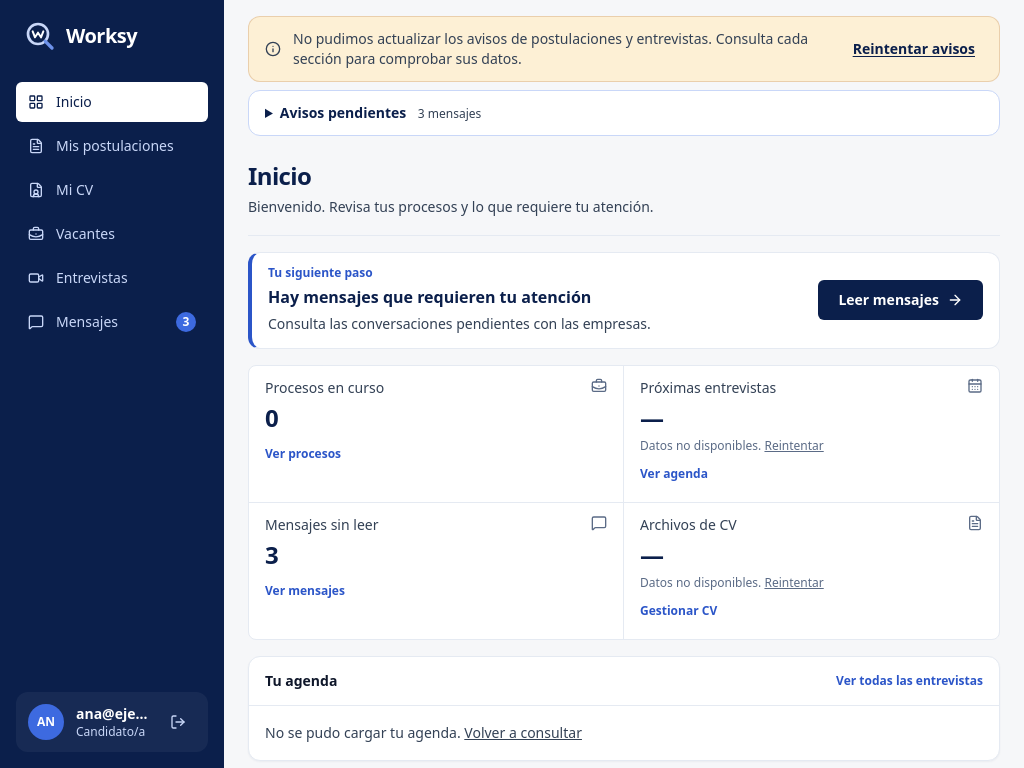
Test: Mensajes en el menú › el menú cuenta los mensajes sin leer y lleva a la bandeja
Click the link with aria-label "Mensajes, 3 sin leer".
click(112, 322)  # box [28,312,196,332]
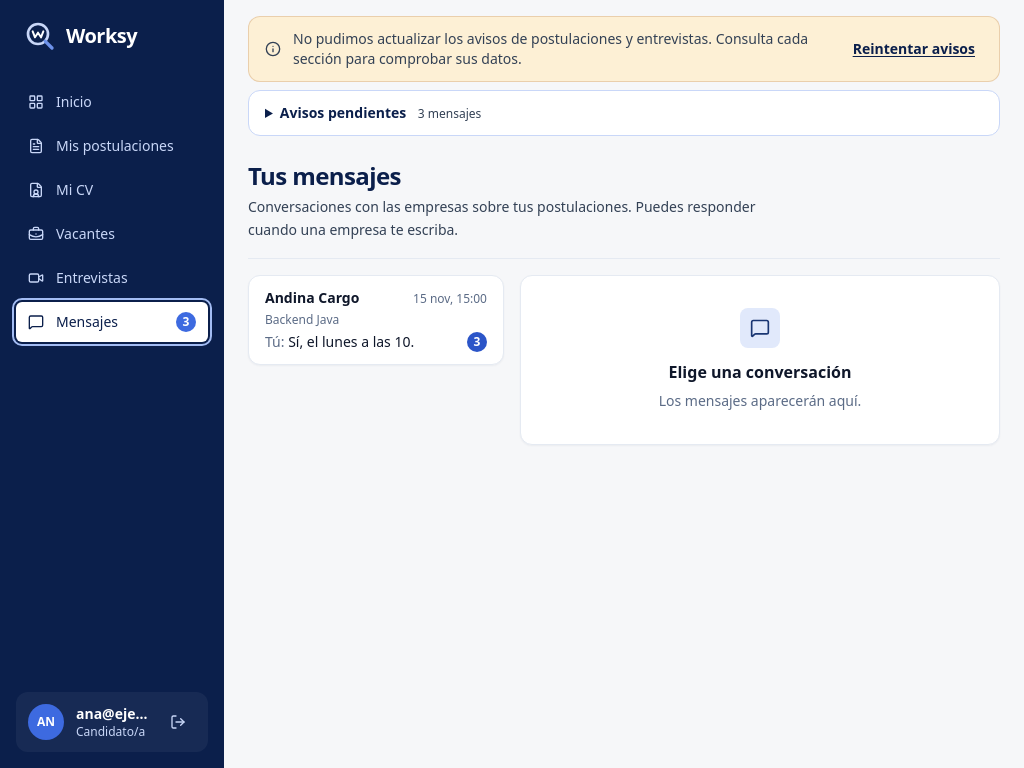
Result: the heading "Tus mensajes" is shown at [248,159,401,192]
